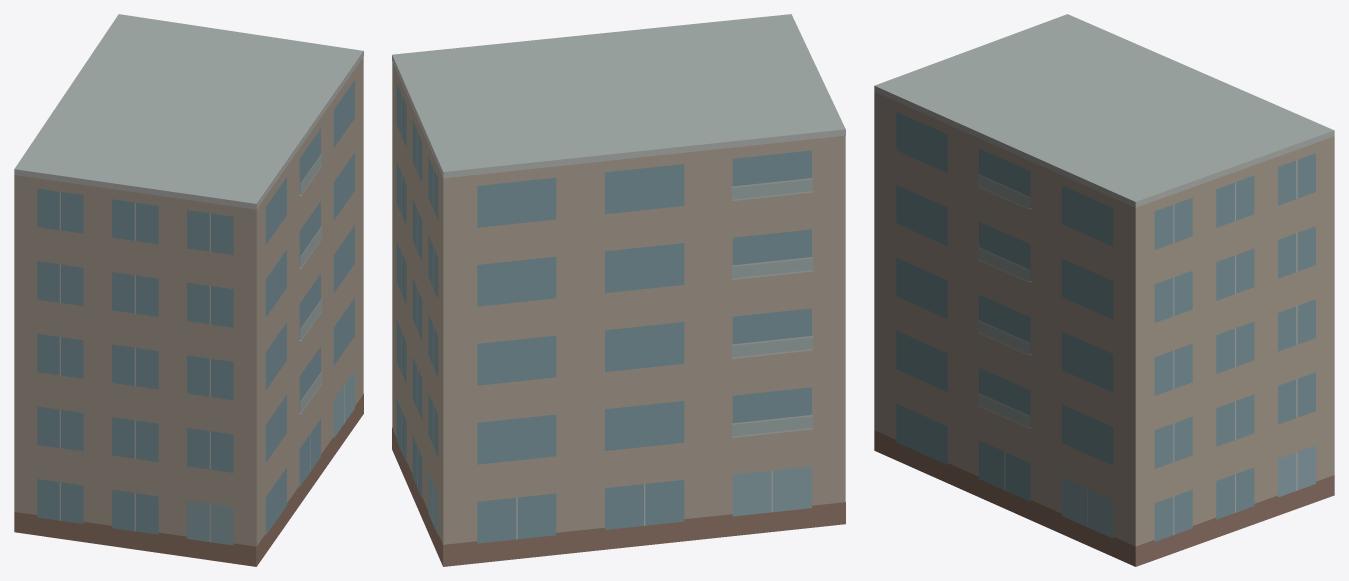
File: survey-upis-32938305.glb
3 views of the same model, side by side, from view 1: azimuth 30°, elevation 25°; view 2: azimuth 150°, elevation 25°; view 3: azimuth 270°, elevation 25° (orthographic). The views are drawn at different scales.
Parts seen in each view (by area): view 1: survey-upis-32938305.tmp; view 2: survey-upis-32938305.tmp; view 3: survey-upis-32938305.tmp.
Boxes of the visible parts, box(x1,y1,x2,y2) form: survey-upis-32938305.tmp: box(14, 14, 363, 566); survey-upis-32938305.tmp: box(392, 14, 845, 566); survey-upis-32938305.tmp: box(874, 14, 1334, 566).
Size of the model in its own units: 16.86 by 15.25 by 17.45.
